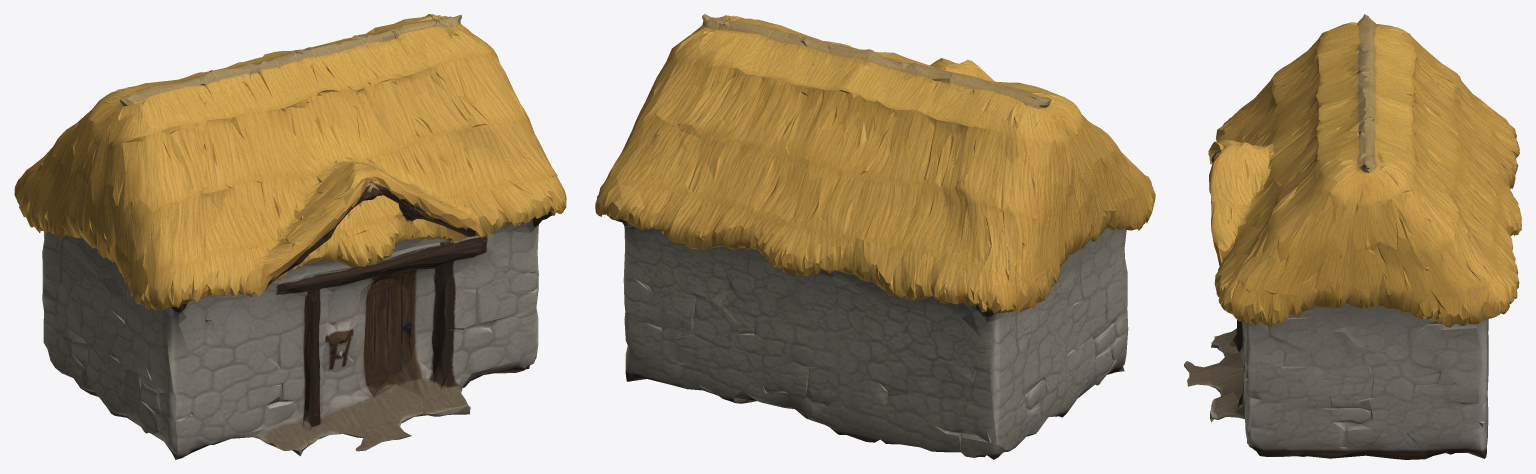
Rendered from hut_mid.glb.
3 views of the same model, side by side, from view 1: azimuth 30°, elevation 25°; view 2: azimuth 150°, elevation 25°; view 3: azimuth 270°, elevation 25° (orthographic). The views are drawn at different scales.
Visible parts, largest first — view 1: output_unwrapped; view 2: output_unwrapped; view 3: output_unwrapped.
Part boxes in pixels (x1=…): output_unwrapped: x1=14, y1=14, x2=566, y2=459; output_unwrapped: x1=595, y1=14, x2=1155, y2=459; output_unwrapped: x1=1184, y1=14, x2=1521, y2=459.
Bounding box in the file's own units: 1.89 × 1.38 × 1.43.
1 material, 1 textured.
